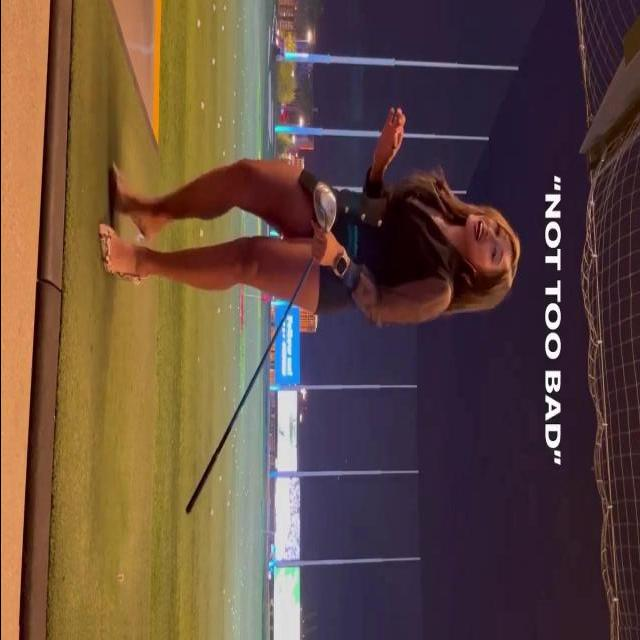golf club-handle: (185, 180, 336, 516)
golf club-head: (312, 183, 335, 233)
